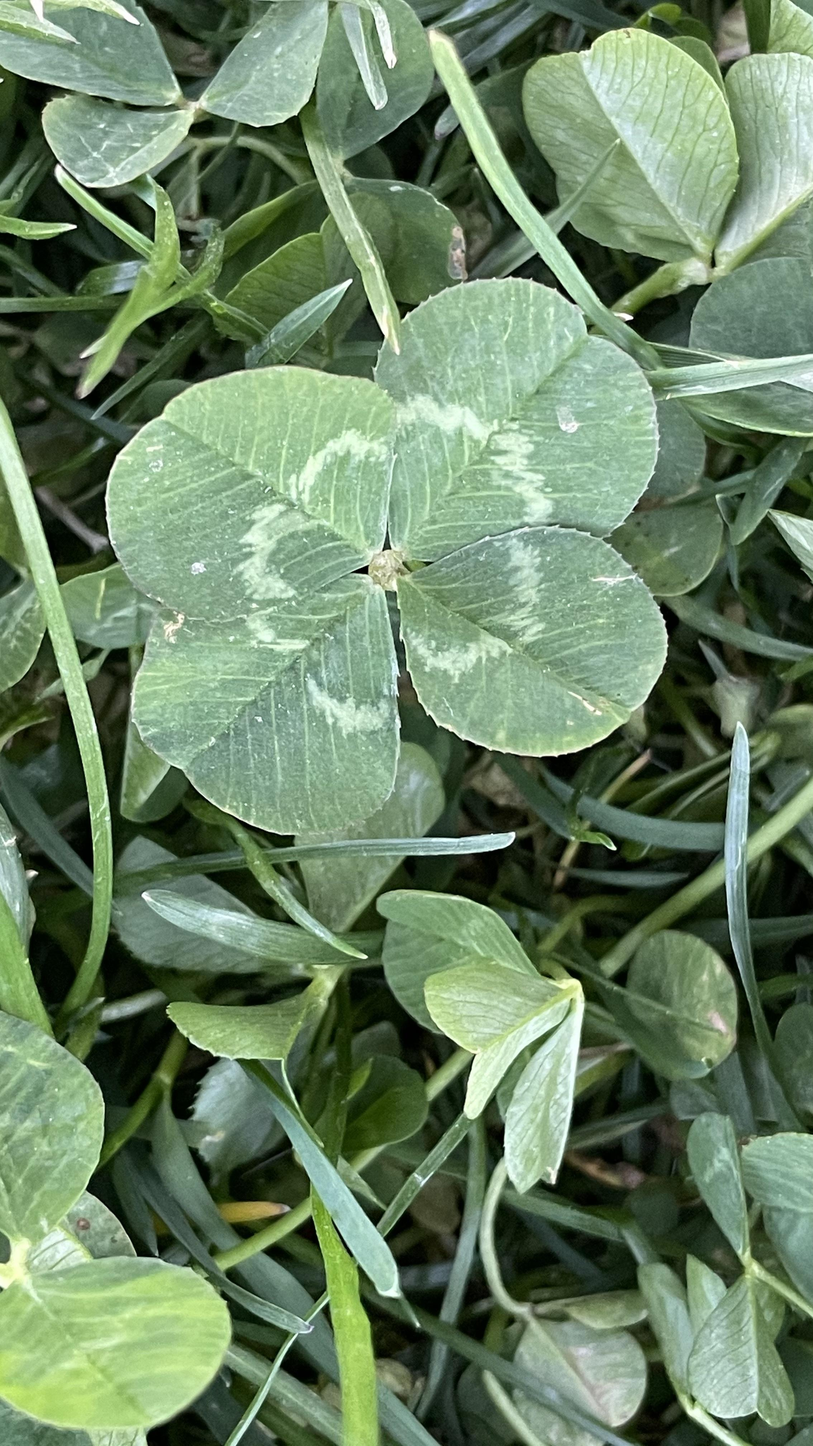4-Leaf-Clovers: (156, 261, 468, 1235)
